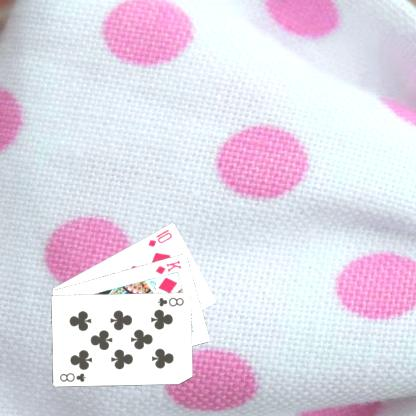10D: (145, 226, 173, 248)
8C: (155, 294, 185, 308), (57, 370, 87, 383)
KD: (152, 258, 182, 276)
